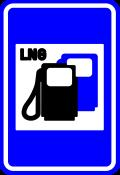Petrol Pump- Gas Station: (9, 16, 111, 146)
